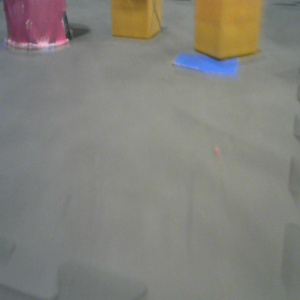middle: (3, 1, 73, 49)
